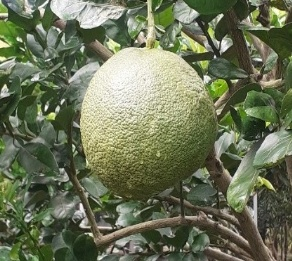Buoi: (78, 45, 219, 203)
